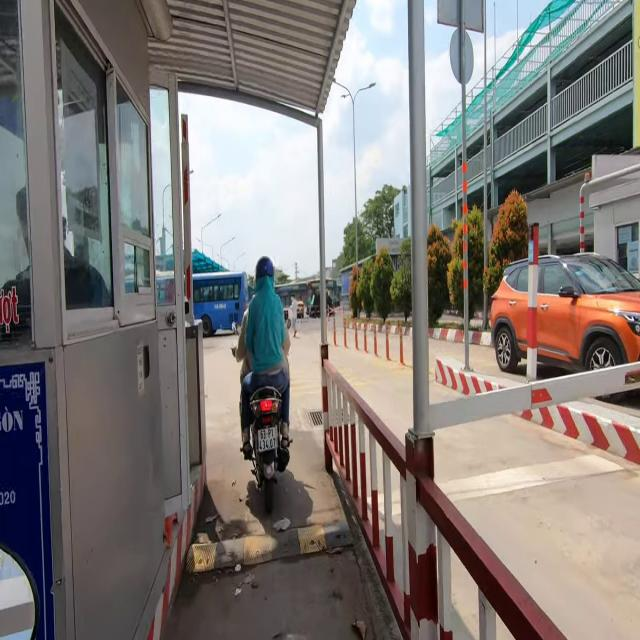bien_trang: (256, 426, 281, 454)
